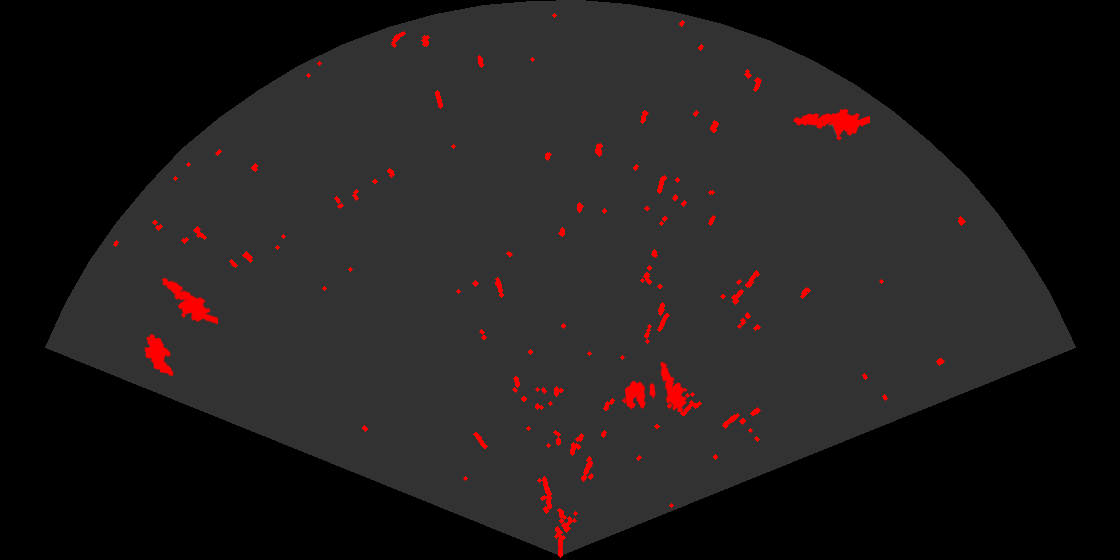AUV: (143, 333, 175, 378)
ball: (623, 379, 657, 411)
frogman: (160, 276, 218, 326), (792, 107, 870, 142), (659, 361, 689, 412)
